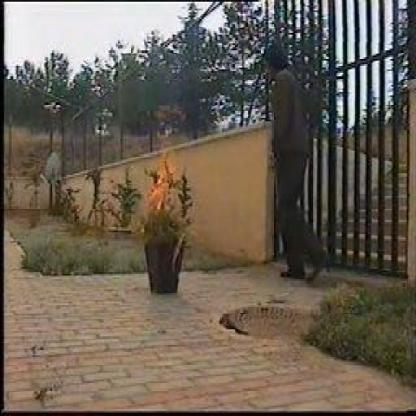foggia-v2-map80-epoch100 - v1 4323: (148, 157, 172, 221)
